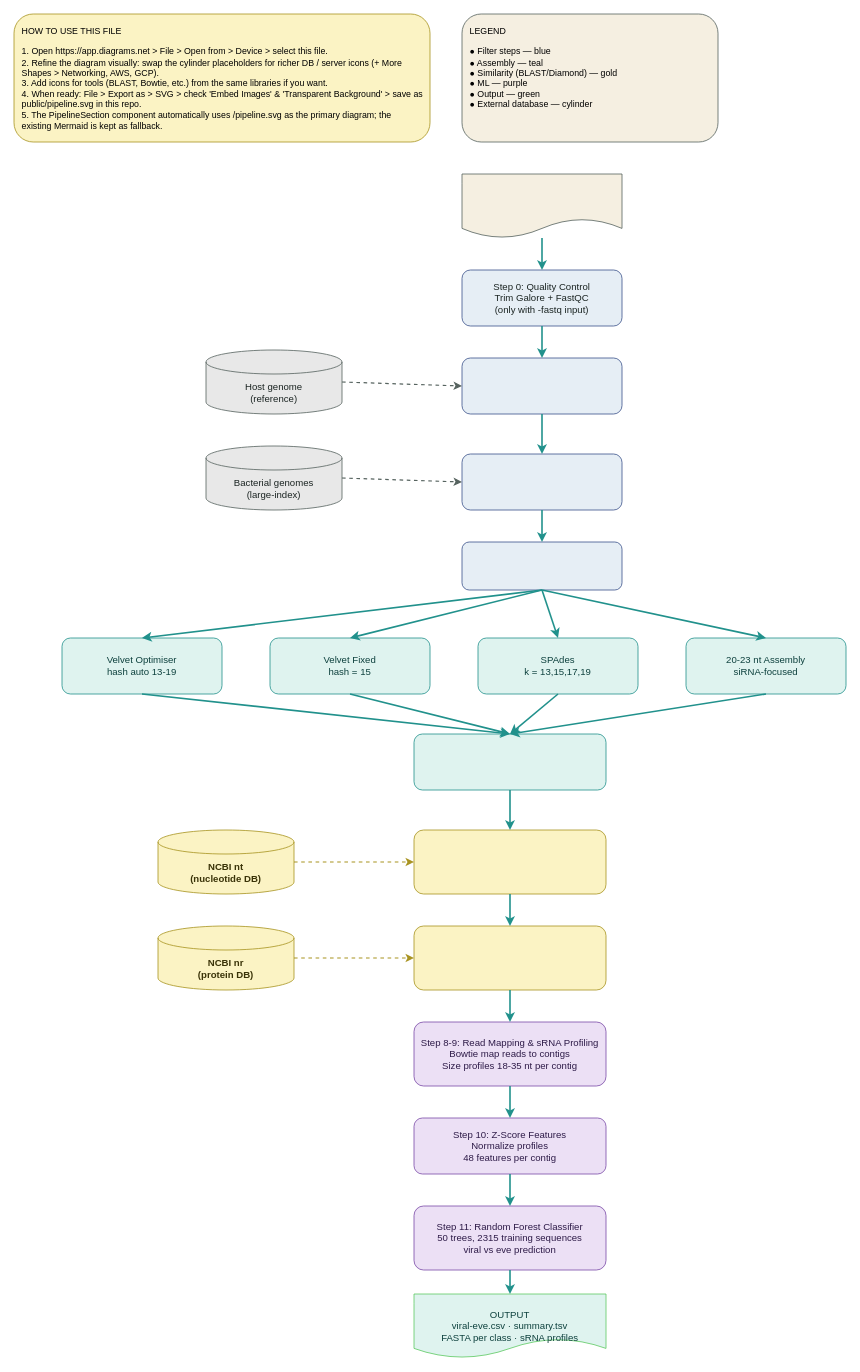
Image size: 860x1372. Some labels were removed from this diagram. The shapes that lost their labels are listed below. From the top down, each one's centre as x and y in pixels, then its label:
At point (541, 205): "INPUT FASTA / FASTQ reads".
At point (541, 385): "Step 1: Host Filtering Bowtie vs host genome (-v 1, -k 1)".
At point (541, 481): "Step 2: Bacterial Filtering Bowtie vs bacterial genomes (--large-index)".
At point (541, 565): "Step 3: Size Selection filter_fasta_by_size.py".
At point (509, 761): "Step 5: CAP3 Meta-Assembly Merge + filter ≥200 nt".
At point (509, 861): "Step 6: BLASTn vs nt evalue 1e-5 Classify: viral / non-viral / no-hit".
At point (509, 957): "Step 7: Diamond BLASTx vs nr evalue 0.001, very-sensitive (no-hit contigs only)".
